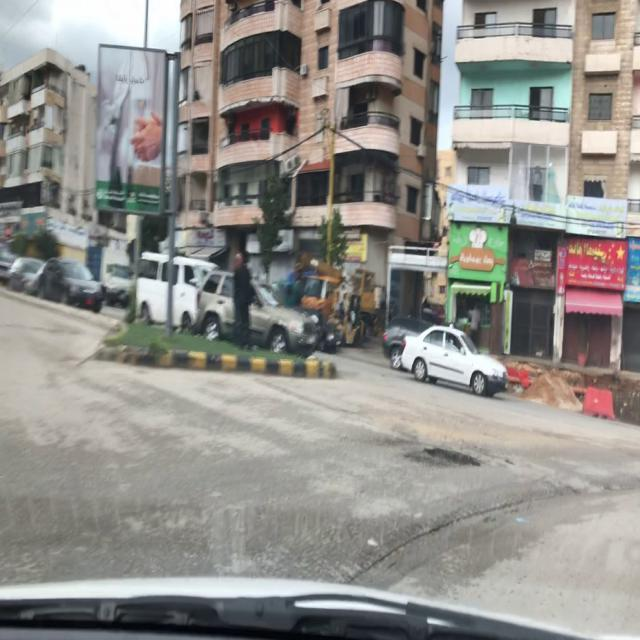pothole: (424, 444, 485, 472)
